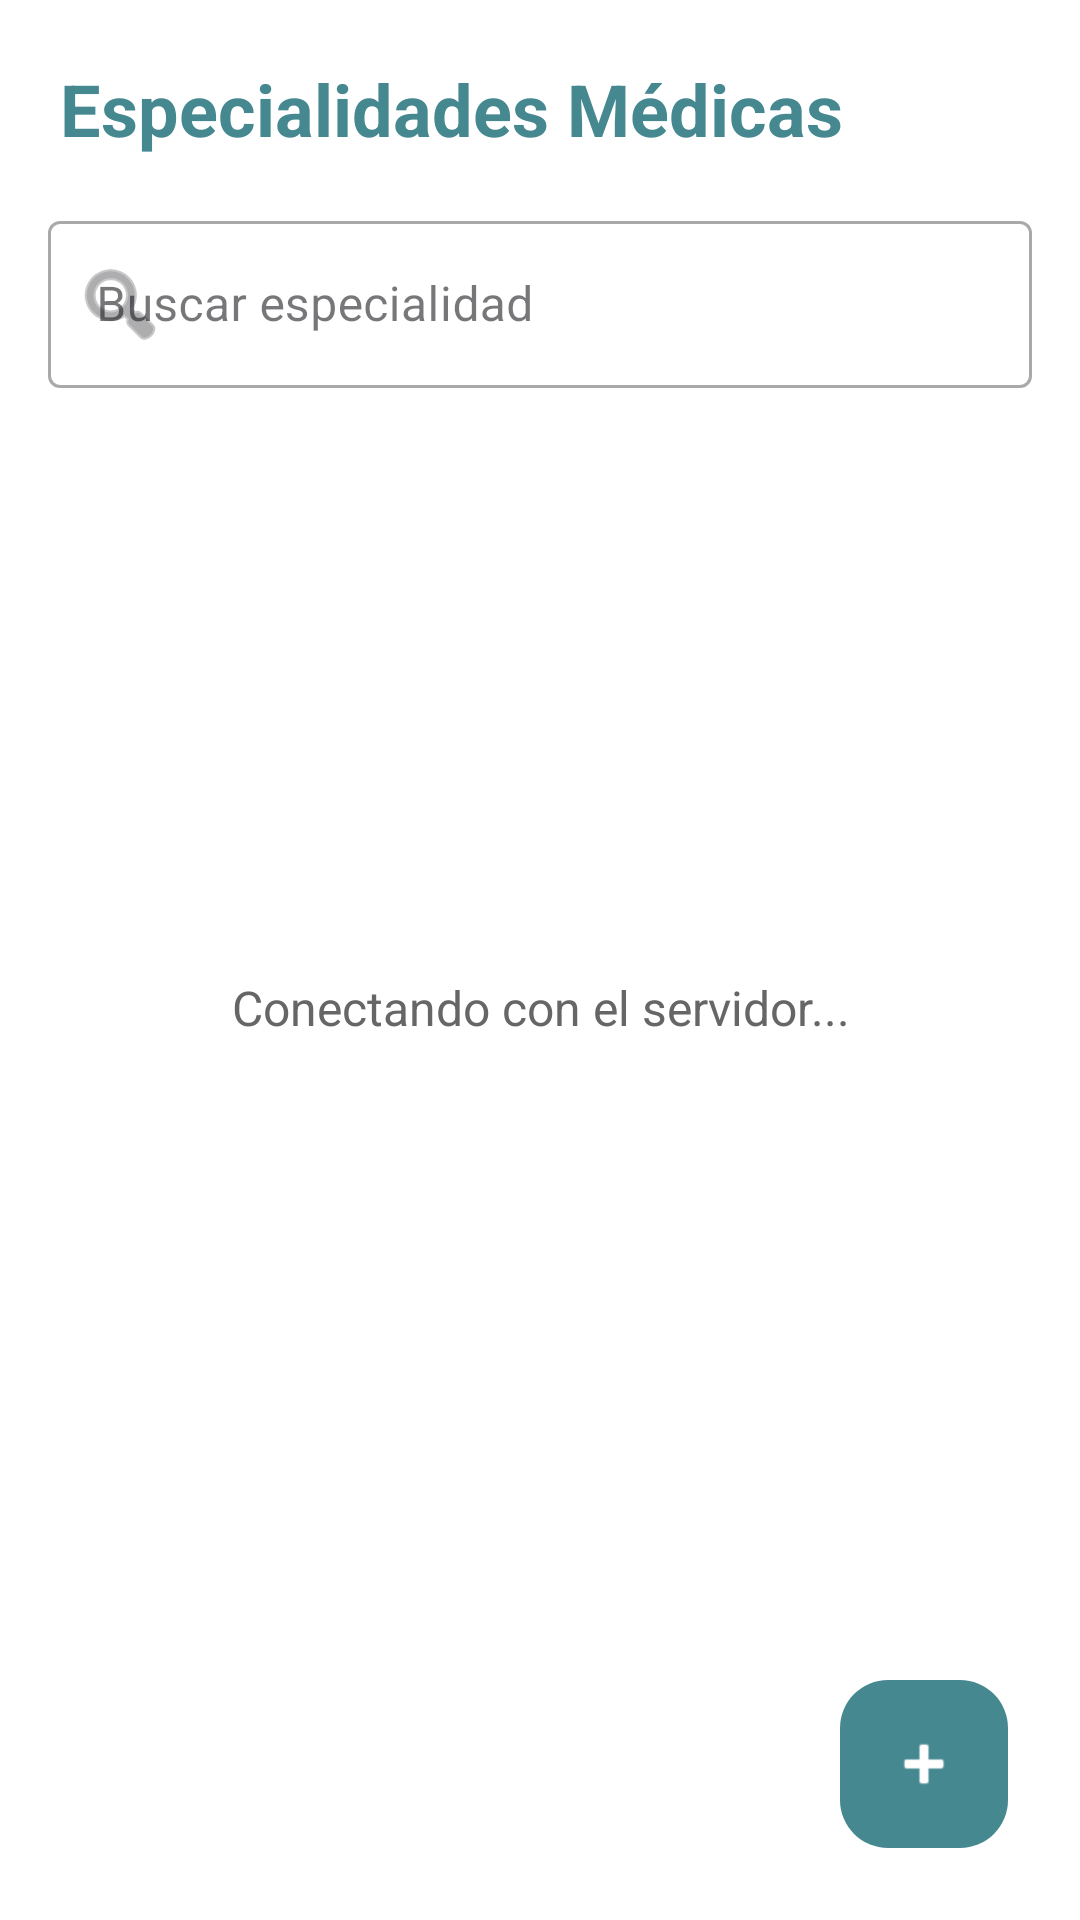

Icon bounding boxes for this 1080x1920 phone screenshot, format (x1, y1, x2, y2):
Registrar nueva especialidad: (840, 1680, 1008, 1848)
